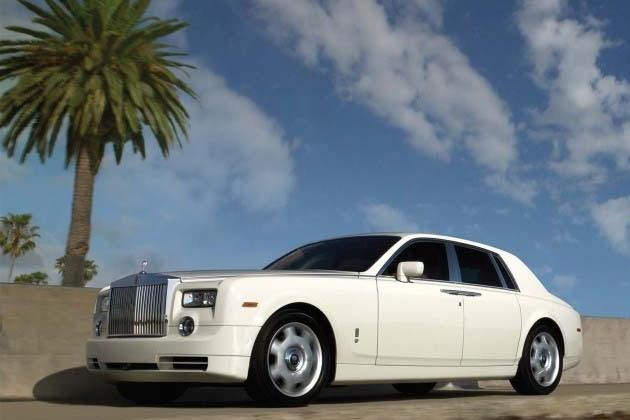car: (53, 209, 593, 413)
